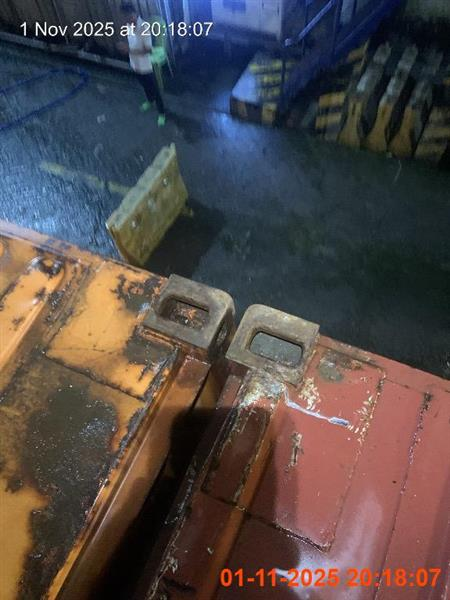broken: (0, 220, 448, 598), (1, 0, 407, 126), (121, 2, 166, 120)
